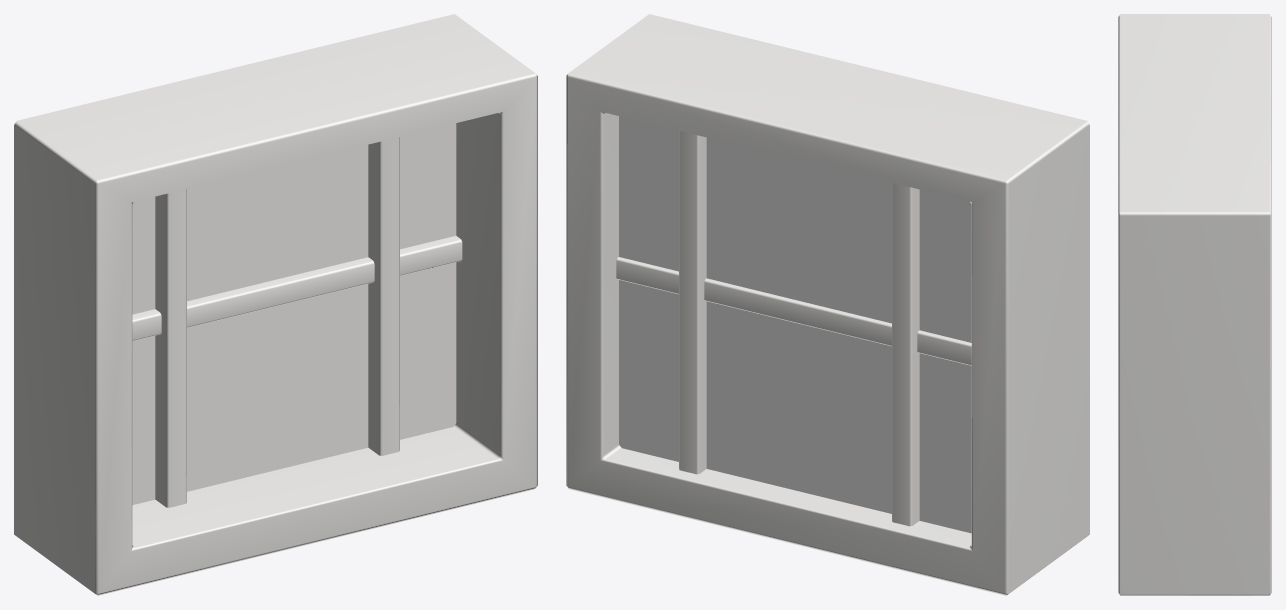
The model's file is Window_12.glb.
3 renders of one model, left to right at view 1: azimuth 30°, elevation 25°; view 2: azimuth 150°, elevation 25°; view 3: azimuth 270°, elevation 25°, orthographic. The views are drawn at different scales.
Visible parts, largest first — view 1: Window_12; view 2: Window_12; view 3: Window_12.
Part boxes in pixels (<box>): Window_12: <box>14,14,537,595</box>; Window_12: <box>566,14,1089,595</box>; Window_12: <box>1118,14,1271,595</box>.
Size of the model in its own units: 1.36 by 1.22 by 0.4401.
2 materials, 2 textured.
